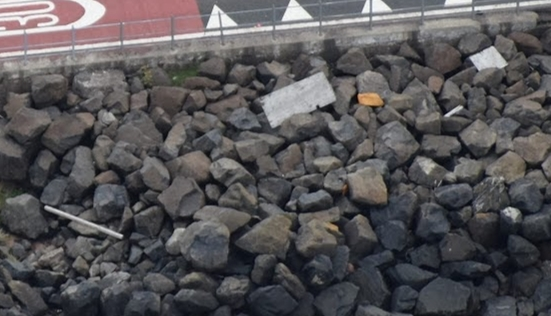cuboid: (254, 70, 342, 128), (467, 43, 513, 77)
straight_bar: (438, 100, 469, 124)
tube: (42, 202, 125, 240)
white_in_green: (339, 70, 399, 127)
